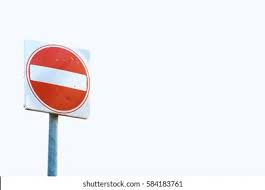No entry: (26, 45, 89, 113)
